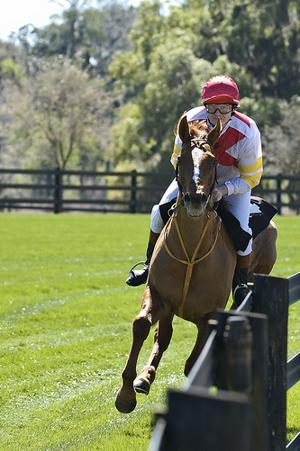person: (127, 72, 263, 308)
